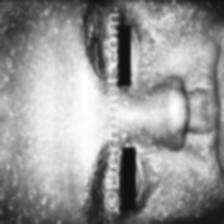Non-Cancerous Skin Condition: (139, 0, 224, 224), (3, 6, 79, 224)
